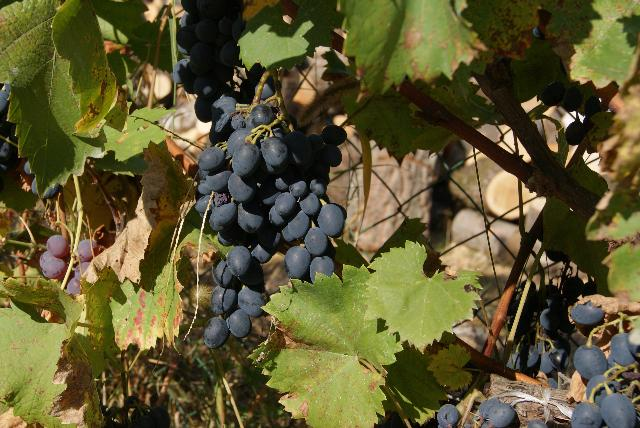grapes: (196, 104, 348, 349), (172, 0, 245, 122)
